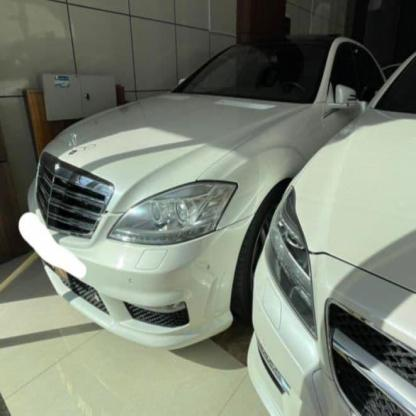Car: (0, 22, 370, 347), (197, 105, 416, 416)
